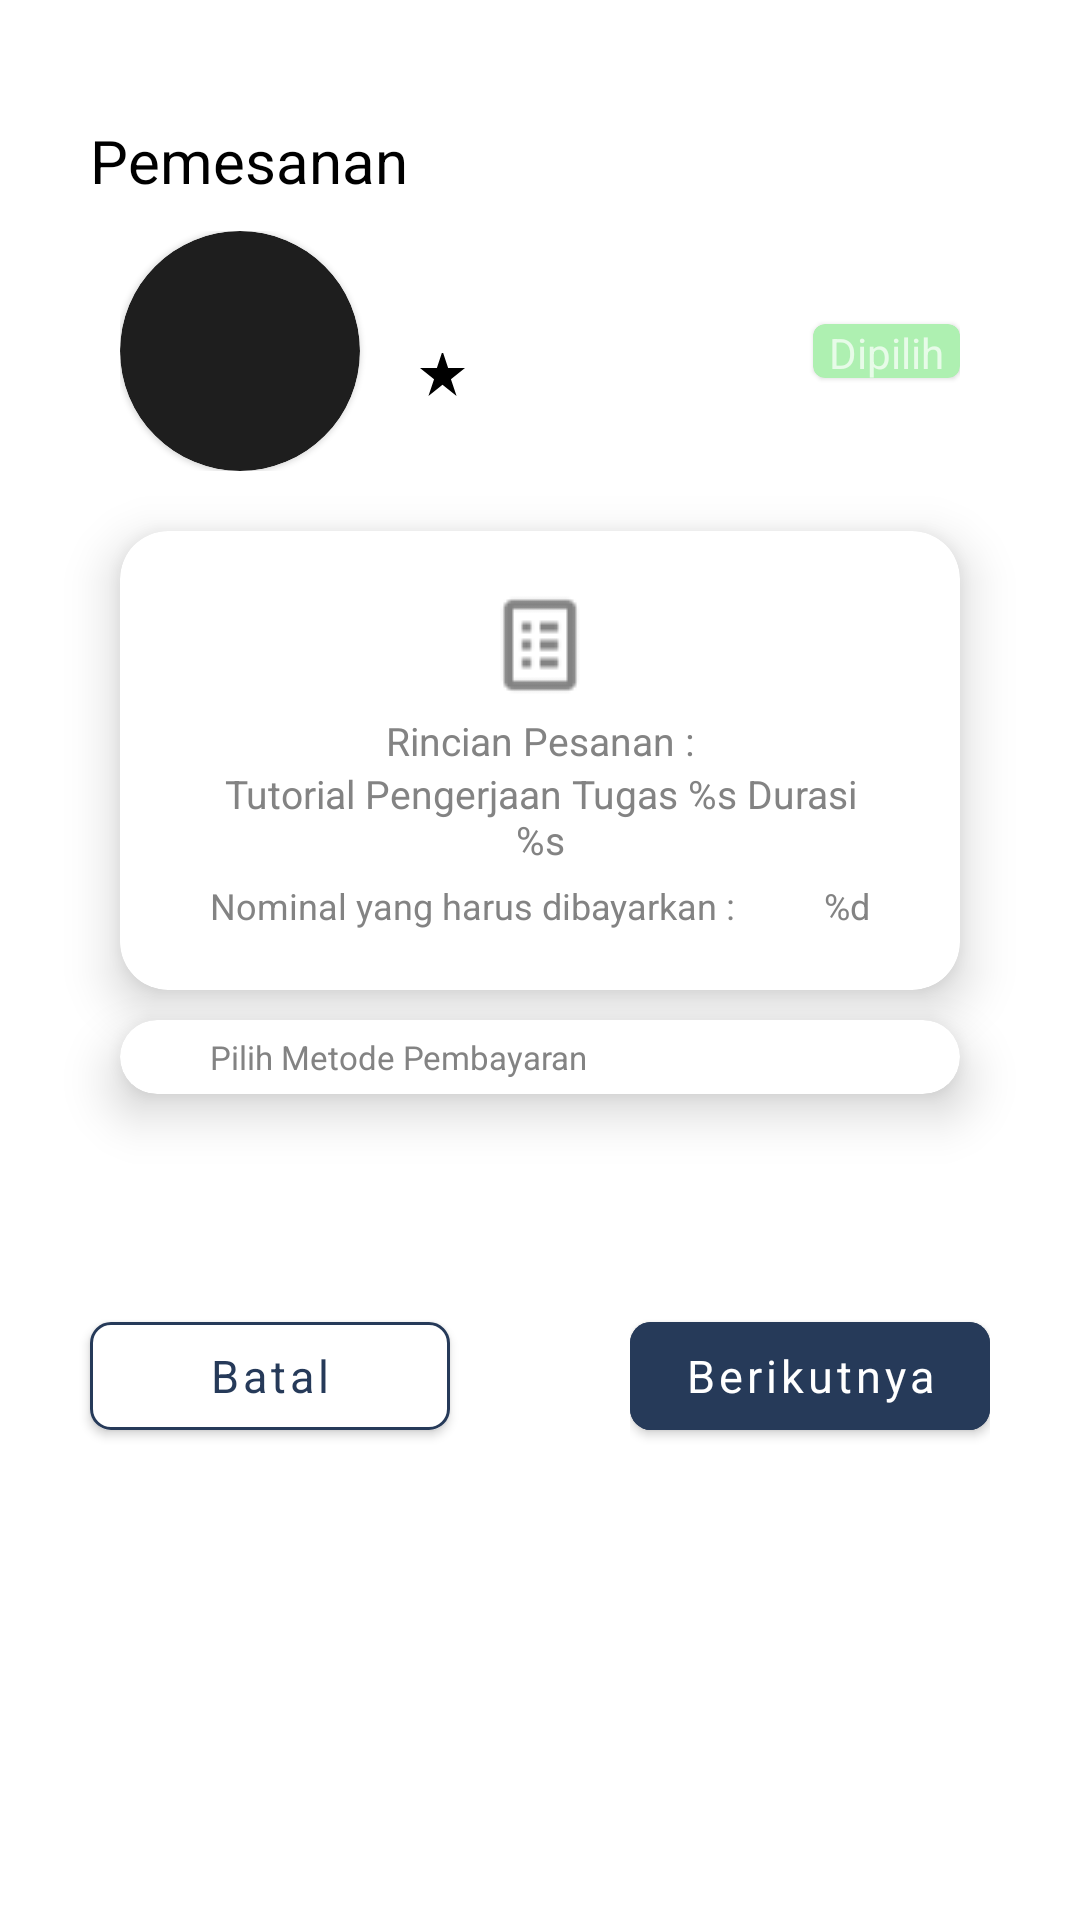

Where to tap for icons on this 1080w x 1920h app screen, as (x,y):
star: (442,374)
task: (540,645)
